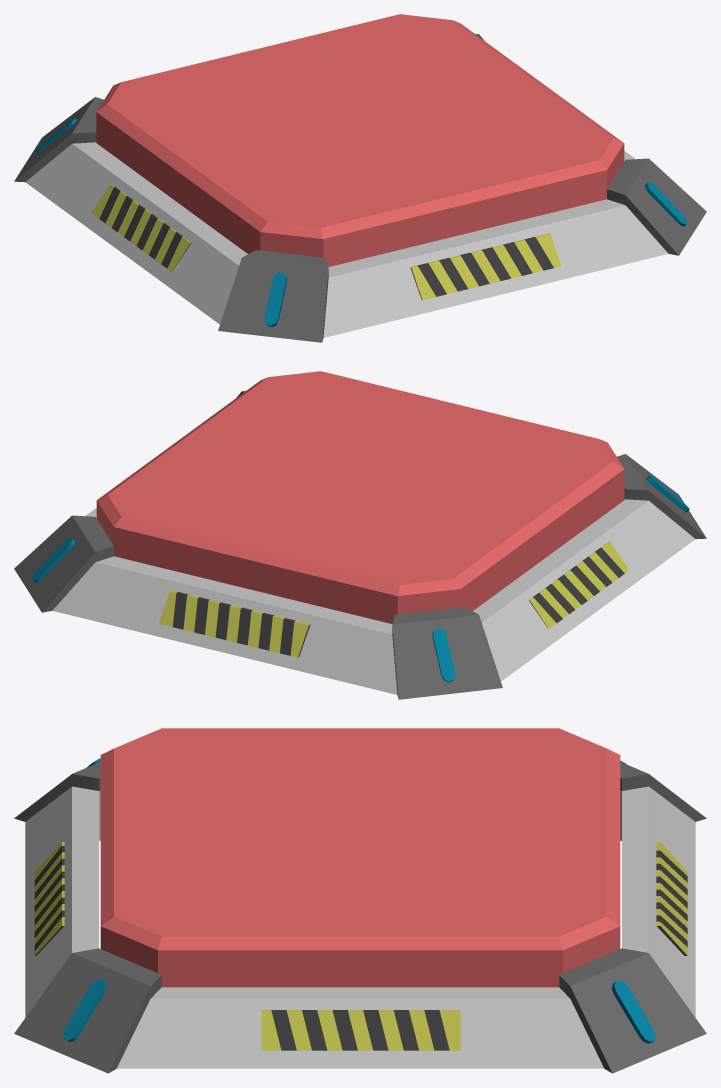
Rendered from Switch.fbx.
3 renders of one model, top to bottom at view 1: azimuth 30°, elevation 25°; view 2: azimuth 150°, elevation 25°; view 3: azimuth 270°, elevation 25°, orthographic. The views are drawn at different scales.
Parts seen in each view (by area): view 1: pCube5, pPipe2, pCube9, pCube10, pCylinder22, pCylinder20; view 2: pCube5, pPipe2, pCube9, pCube10, pCylinder23, pCylinder21; view 3: pCube5, pPipe2, pCube10, pCube9, pCylinder21, pCylinder20.
Part boxes in pixels (x1,y1,x2,y2): pCube5: (96, 14, 624, 266); pPipe2: (14, 33, 706, 342); pCube9: (410, 233, 561, 300); pCube10: (91, 184, 191, 271); pCylinder22: (264, 272, 286, 327); pCylinder20: (644, 182, 687, 226); pCube5: (96, 371, 624, 623); pPipe2: (14, 390, 706, 699); pCube9: (159, 590, 310, 657); pCube10: (529, 541, 628, 629); pCylinder23: (432, 628, 455, 682); pCylinder21: (32, 538, 74, 582); pCube5: (100, 728, 620, 987); pPipe2: (14, 762, 706, 1073); pCube10: (261, 1010, 460, 1050); pCube9: (34, 842, 687, 955); pCylinder21: (611, 980, 655, 1043); pCylinder20: (63, 978, 106, 1041).
Bounding box in the file's own units: 4.21 × 0.6228 × 4.18.
